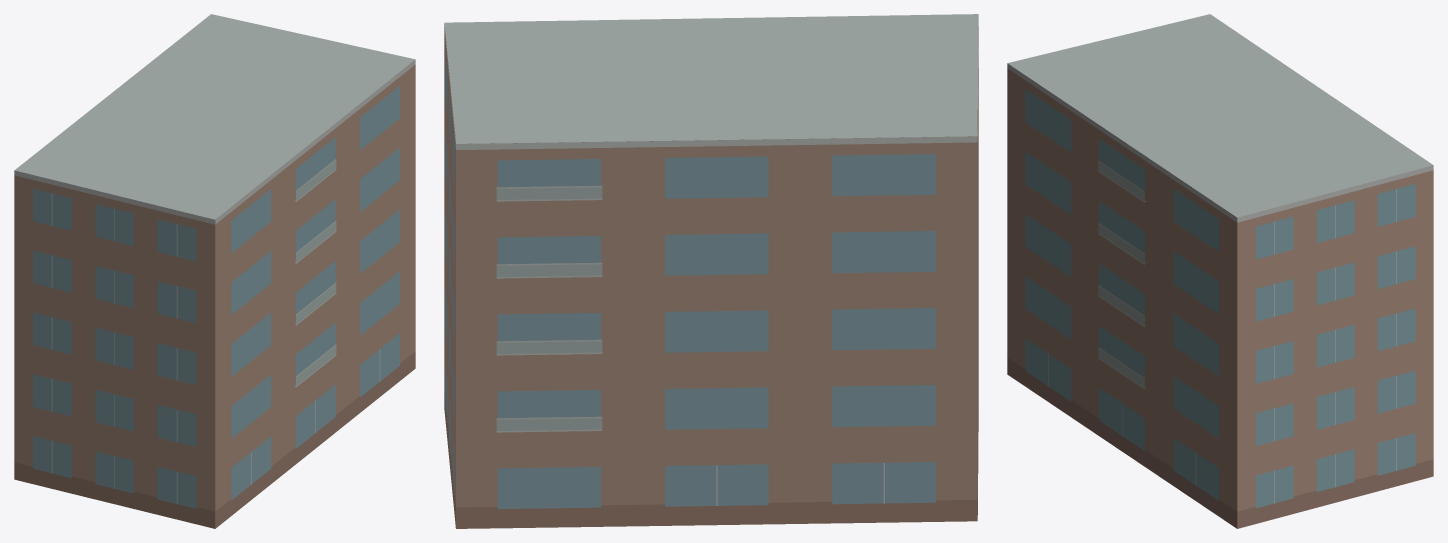
File: survey-upis-32766591.glb
3 views of the same model, side by side, from view 1: azimuth 30°, elevation 25°; view 2: azimuth 150°, elevation 25°; view 3: azimuth 270°, elevation 25° (orthographic). The views are drawn at different scales.
Visible parts, largest first — view 1: survey-upis-32766591.tmp; view 2: survey-upis-32766591.tmp; view 3: survey-upis-32766591.tmp.
Boxes of the visible parts, left/top/right/bottom form: survey-upis-32766591.tmp: left=14, top=14, right=415, bottom=528; survey-upis-32766591.tmp: left=444, top=14, right=978, bottom=528; survey-upis-32766591.tmp: left=1007, top=14, right=1433, bottom=528.
Bounding box in the file's own units: 21.42 × 15.25 × 18.95.
